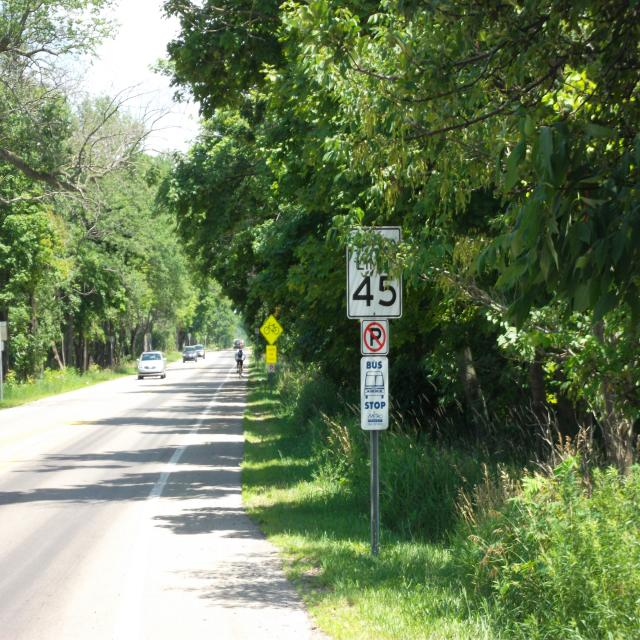regulatory: (341, 231, 403, 314), (356, 318, 394, 356), (267, 364, 275, 372)
